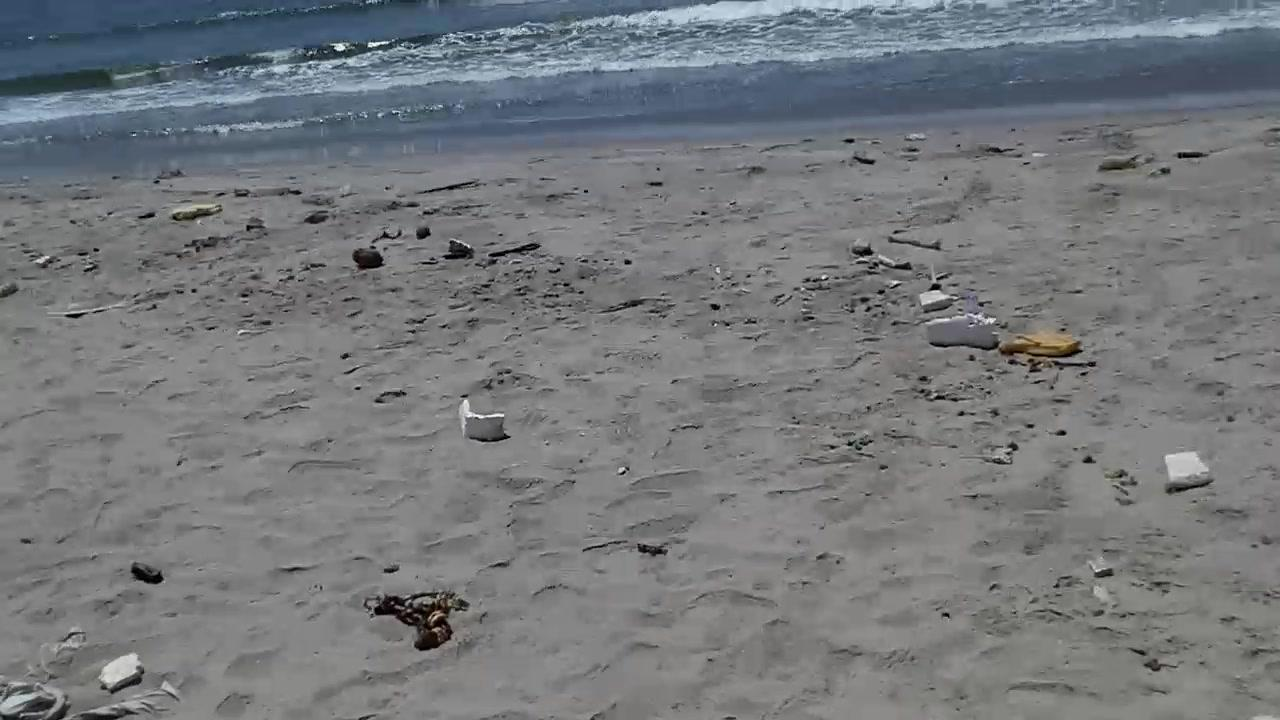obj: (356, 575, 476, 657), (6, 670, 185, 719), (834, 214, 947, 279), (908, 302, 1003, 348), (89, 653, 175, 698), (450, 391, 516, 448), (1156, 440, 1220, 496), (41, 292, 150, 320), (988, 326, 1084, 357), (154, 193, 226, 228), (908, 272, 968, 308), (342, 233, 387, 272), (124, 562, 168, 588), (482, 241, 540, 260), (1083, 554, 1116, 582), (446, 234, 478, 260), (27, 253, 62, 273), (411, 222, 434, 243), (380, 226, 402, 242), (1028, 146, 1050, 158)
sand/background: (1, 1, 1279, 198)
